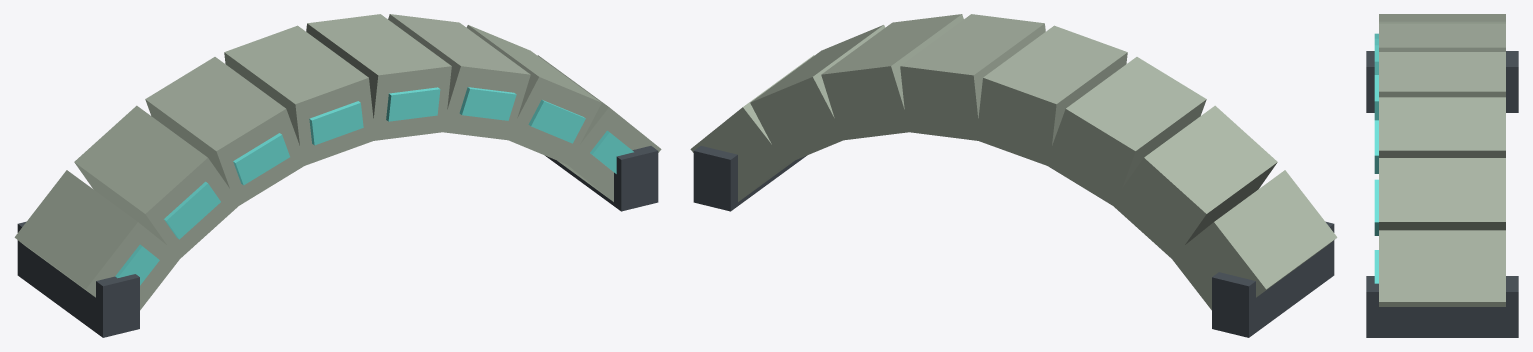
The model's file is SH_WarpRingSegment_01.glb.
The picture shows the model from 3 angles, left to right: view 1: azimuth 30°, elevation 25°; view 2: azimuth 150°, elevation 25°; view 3: azimuth 270°, elevation 25°; orthographic projection. The views are drawn at different scales.
Visible parts, largest first — view 1: SH_WarpRingSegment_01; view 2: SH_WarpRingSegment_01; view 3: SH_WarpRingSegment_01.
Boxes of the visible parts, x1,y1,x2,y2 form: SH_WarpRingSegment_01: (14, 14, 661, 337); SH_WarpRingSegment_01: (690, 14, 1337, 337); SH_WarpRingSegment_01: (1366, 14, 1518, 337).
Size of the model in its own units: 0.9335 by 0.292 by 0.24.
Materials: 1 (1 with a texture image).
